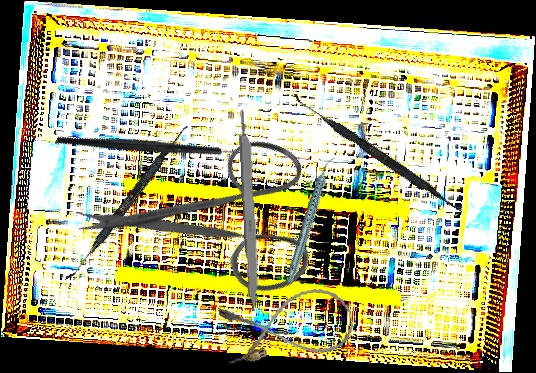Cannula: (217, 284, 357, 368)
Chopper: (54, 67, 256, 218)
Handpiece: (262, 154, 359, 285)
Iris Scissors: (67, 82, 358, 369)
Scalpel Handle: (237, 108, 263, 312)
Spatula Surgical: (288, 93, 467, 215), (64, 120, 190, 287)
